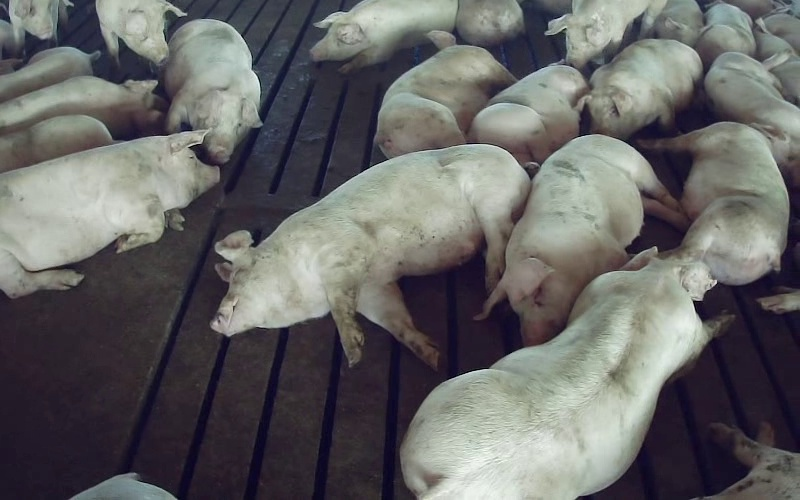pig: (401, 248, 726, 499), (211, 144, 529, 367), (477, 135, 686, 344), (0, 130, 219, 297), (641, 122, 788, 284), (375, 31, 515, 157), (164, 19, 261, 164), (467, 65, 588, 165), (587, 39, 702, 139), (310, 0, 457, 73), (704, 52, 799, 164), (96, 0, 185, 64)
